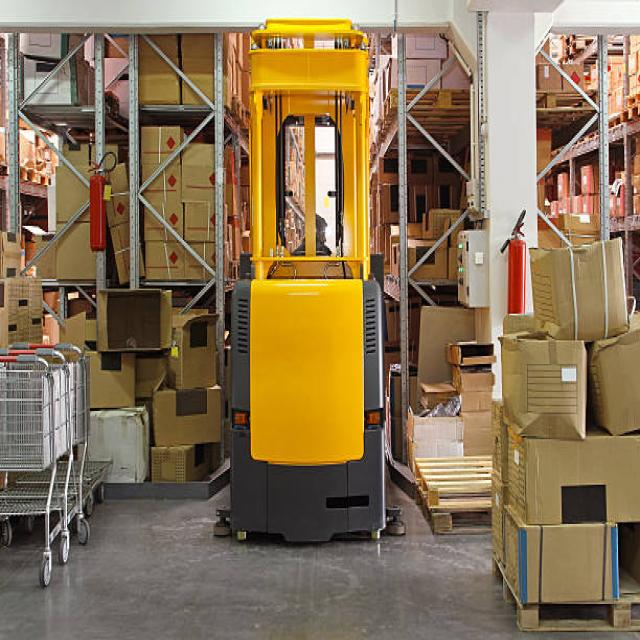Wooden-Pallets: (481, 545, 640, 639), (412, 451, 492, 535)
